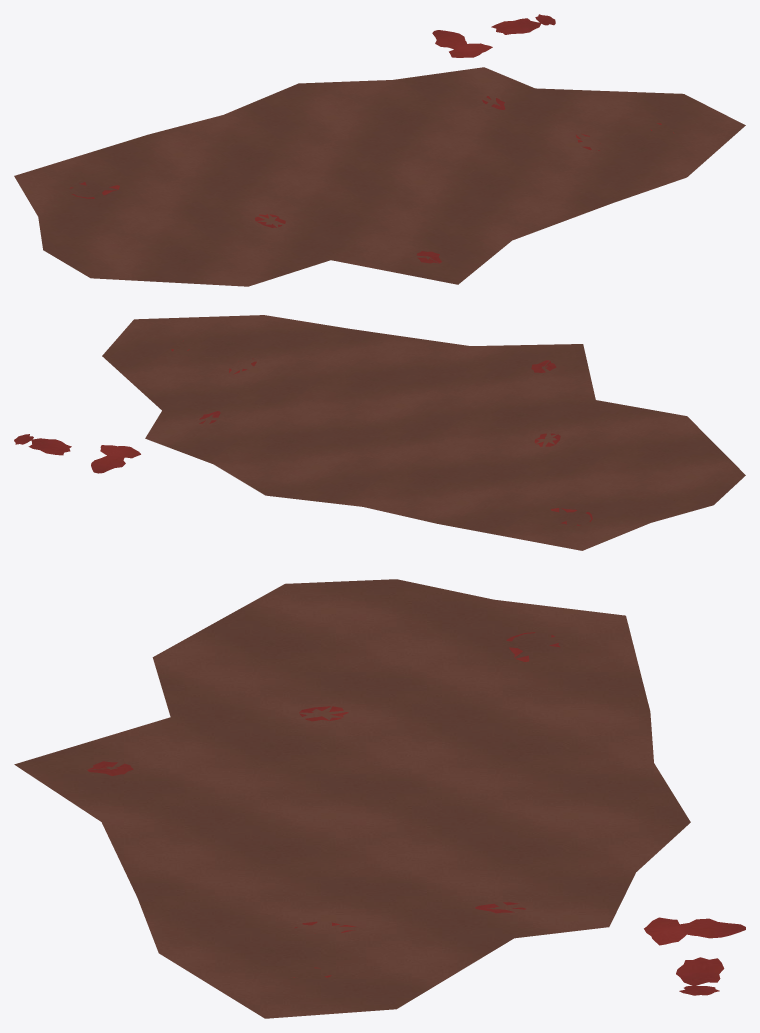
File: blood_wide_pool.glb
The picture shows the model from 3 angles, top to bottom: view 1: azimuth 30°, elevation 25°; view 2: azimuth 150°, elevation 25°; view 3: azimuth 270°, elevation 25°; orthographic projection. The views are drawn at different scales.
Visible parts, largest first — view 1: blood_wide_pool; view 2: blood_wide_pool; view 3: blood_wide_pool.
Boxes of the visible parts, left/top/right/bottom form: blood_wide_pool: left=14, top=14, right=745, bottom=286; blood_wide_pool: left=14, top=315, right=745, bottom=550; blood_wide_pool: left=14, top=579, right=745, bottom=1018.
Bounding box in the file's own units: 1.43 × 0.000297 × 1.01.
Materials: 2 (2 with a texture image).
